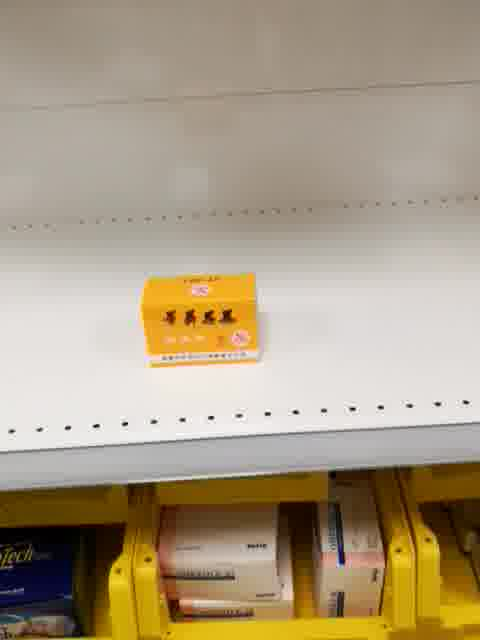jasminetea: (136, 267, 265, 372)
